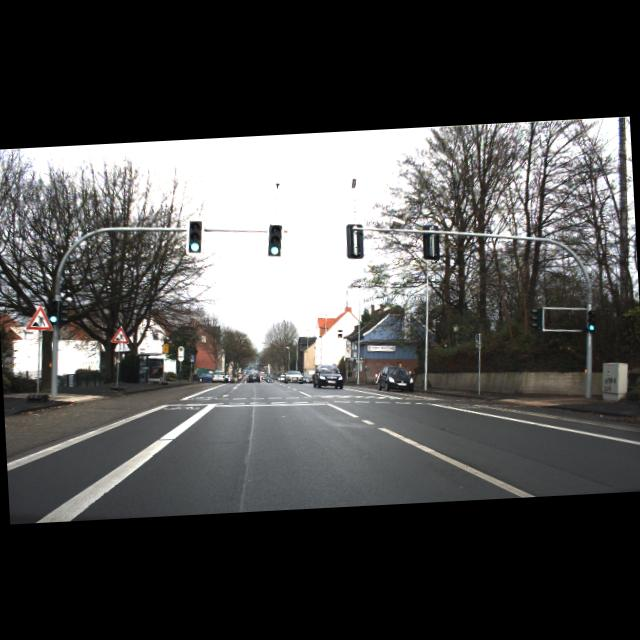danger: (26, 304, 54, 330), (110, 326, 130, 343)
